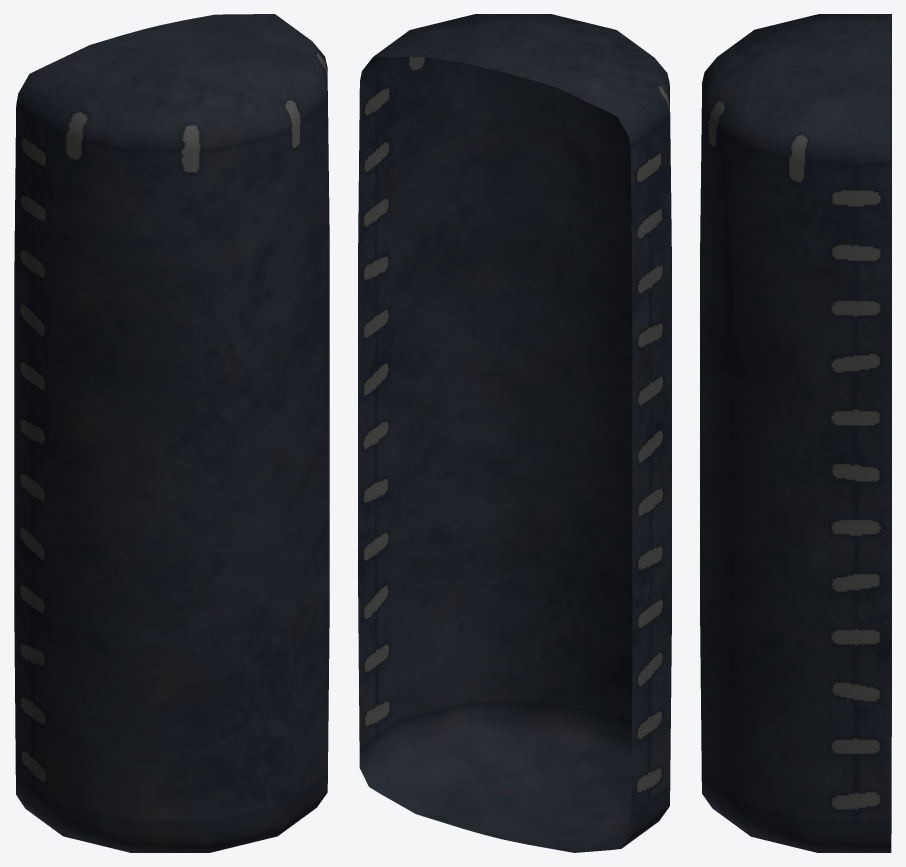
The model's file is wallBumper_half.fbx.
3 views of the same model, side by side, from view 1: azimuth 30°, elevation 25°; view 2: azimuth 150°, elevation 25°; view 3: azimuth 270°, elevation 25° (orthographic).
Visible parts, largest first — view 1: wallBumber_half; view 2: wallBumber_half; view 3: wallBumber_half.
Boxes of the visible parts, left/top/right/bottom form: wallBumber_half: left=14, top=14, right=329, bottom=852; wallBumber_half: left=358, top=14, right=671, bottom=852; wallBumber_half: left=700, top=14, right=891, bottom=852.
Bounding box in the file's own units: 86.24 × 232 × 52.98.
